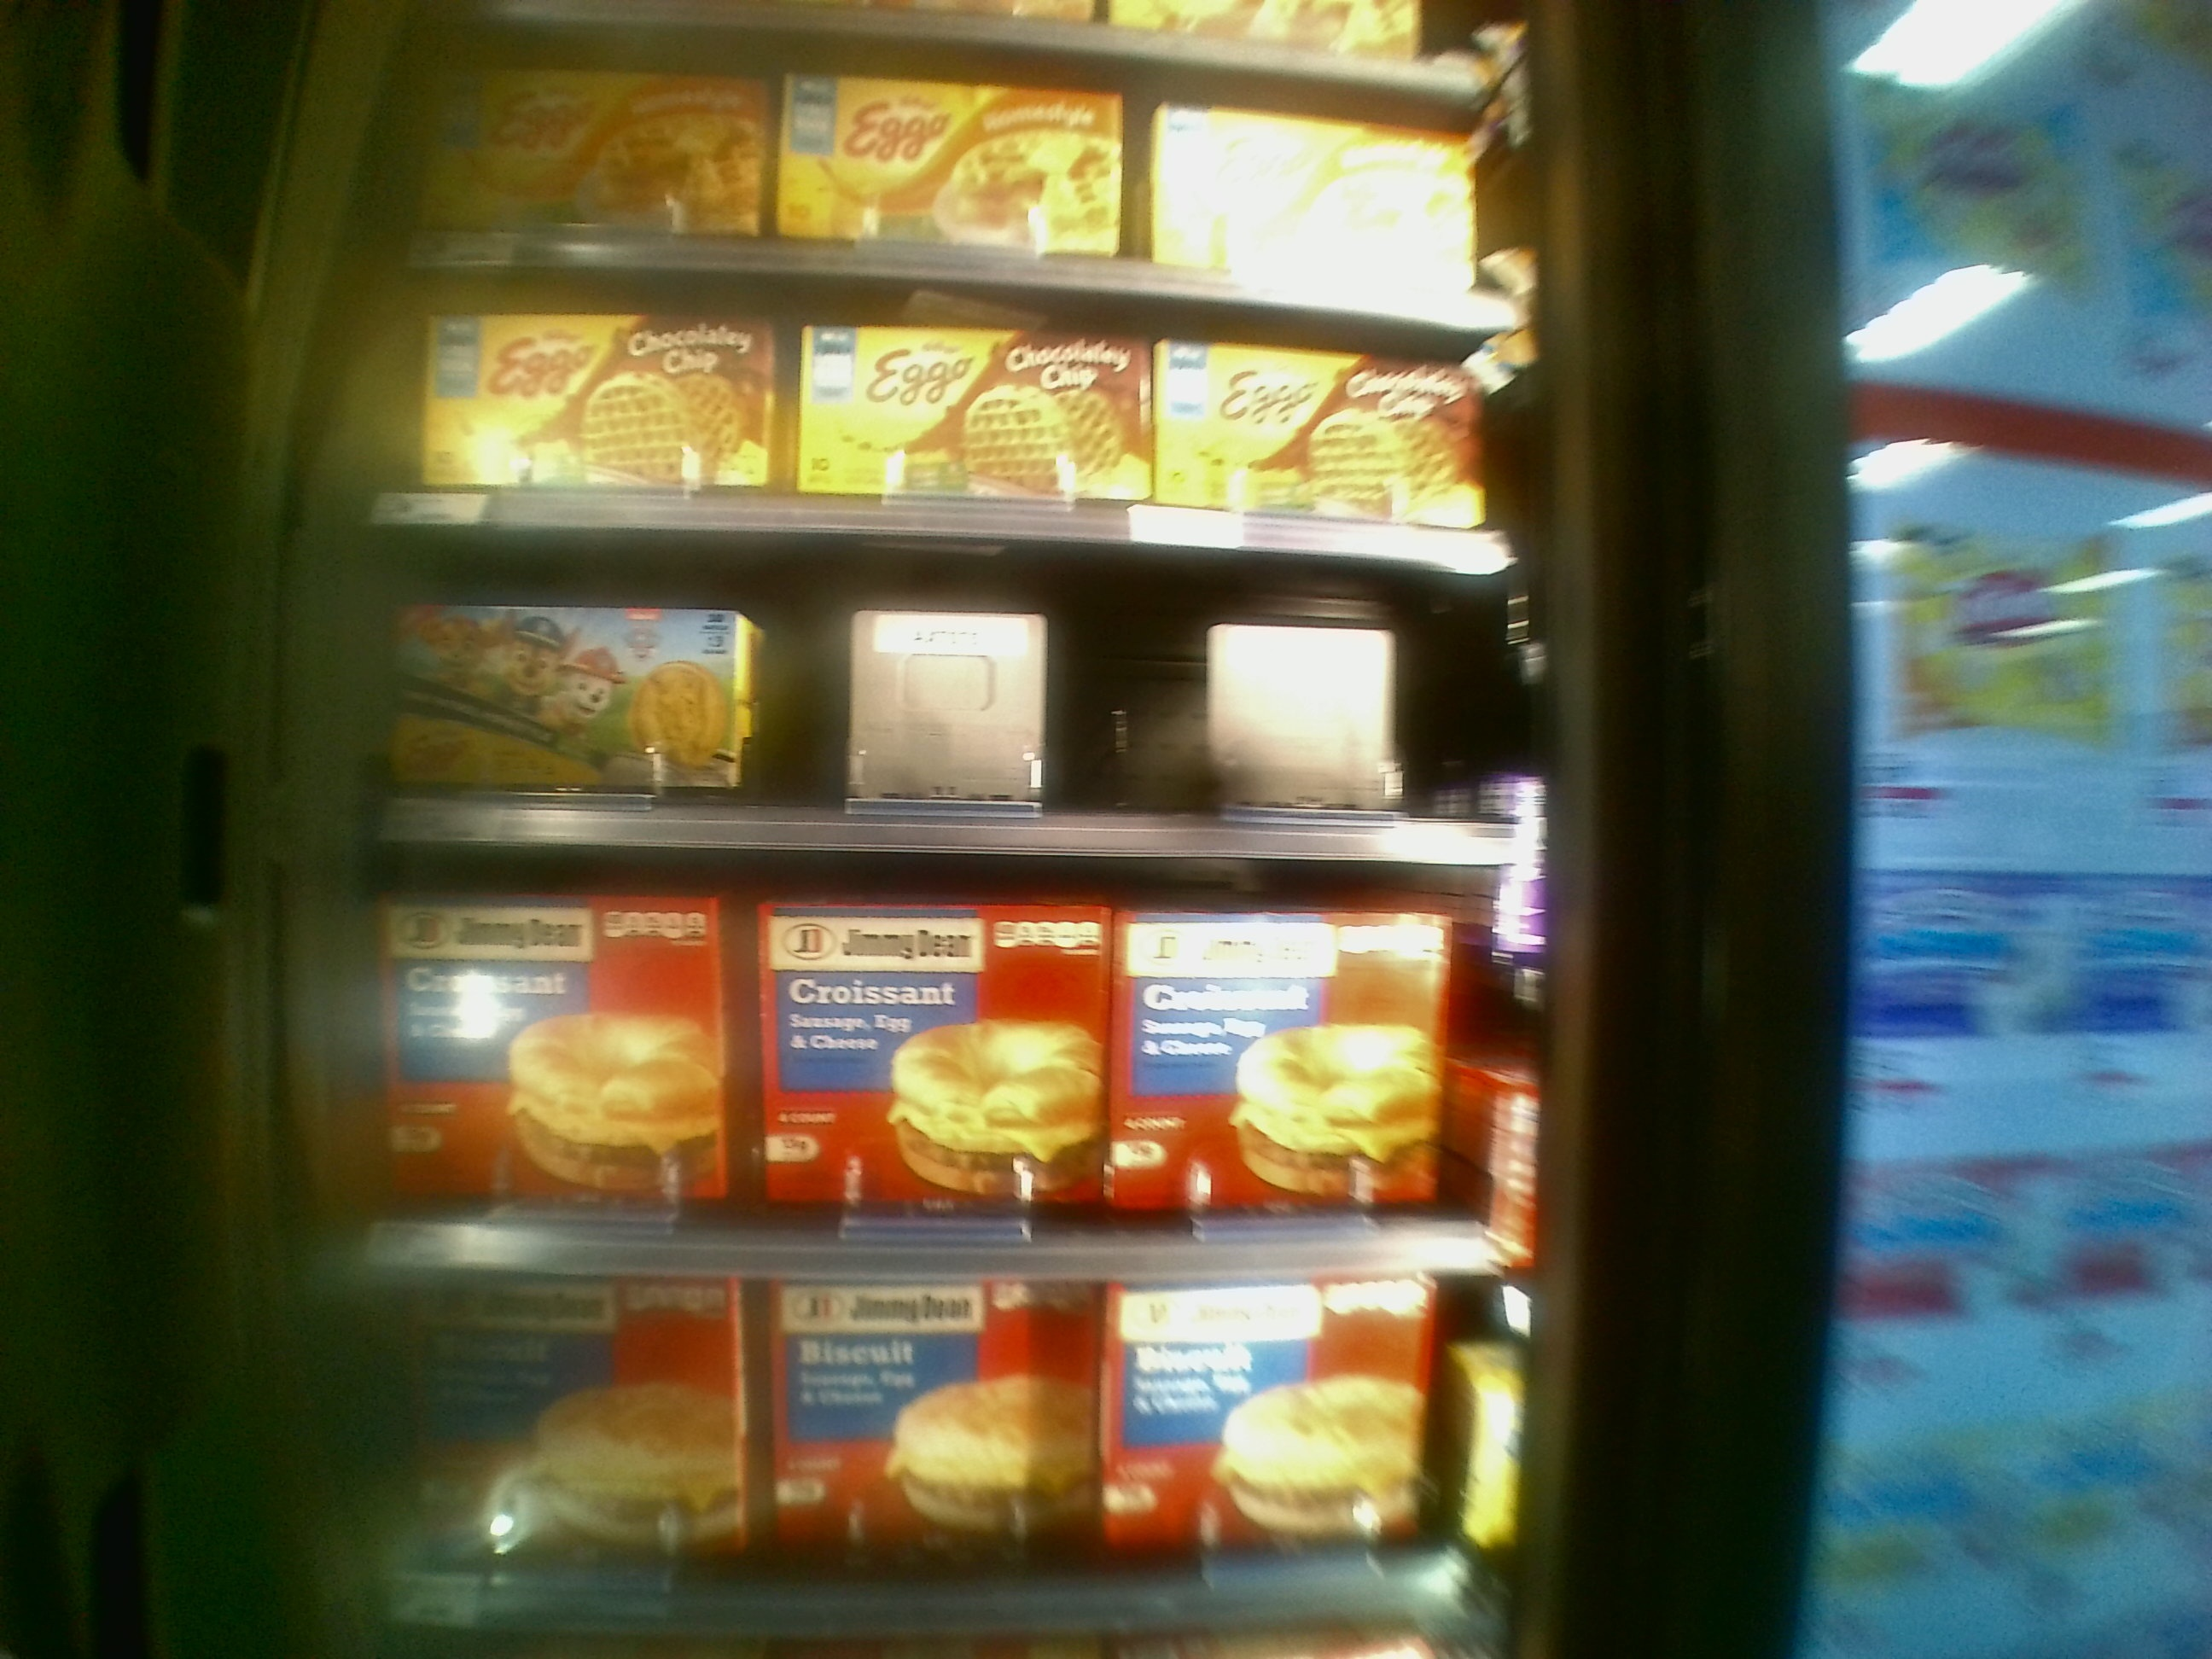shelf: (348, 842, 1514, 1286)
